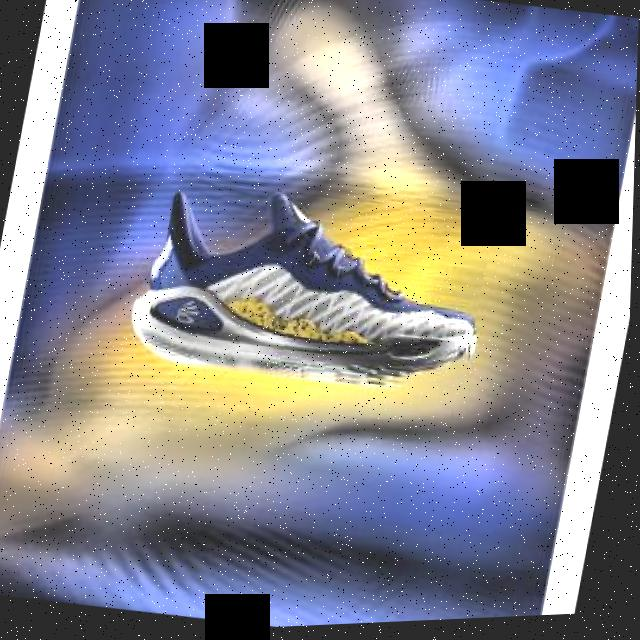shoe: (125, 168, 498, 415)
